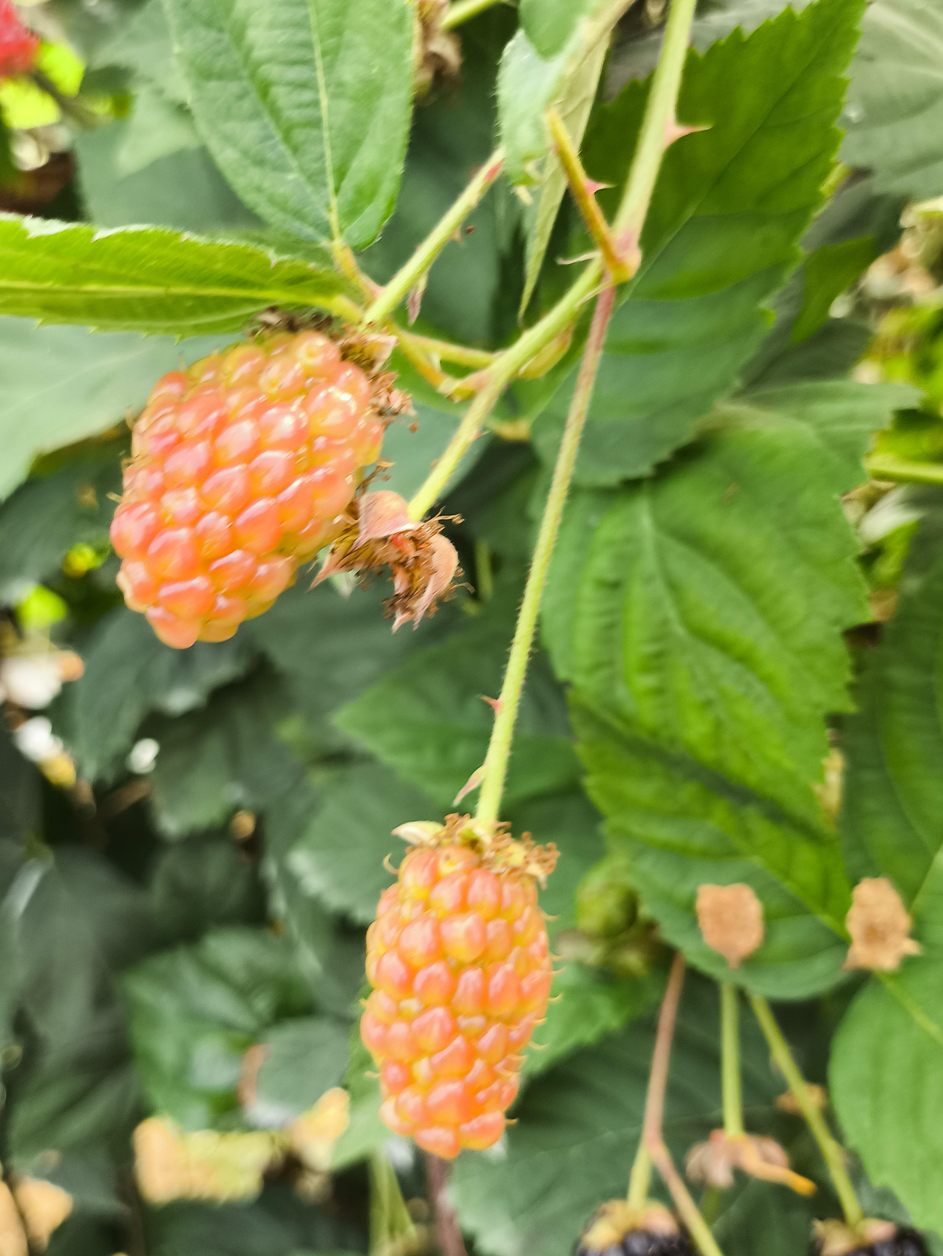naranja: (117, 330, 382, 657), (359, 815, 554, 1158)
